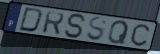C: (130, 23, 151, 47)
D: (17, 6, 44, 34)
Q: (107, 20, 130, 45)
R: (41, 11, 66, 37)
S: (63, 13, 88, 40), (85, 16, 109, 43)
